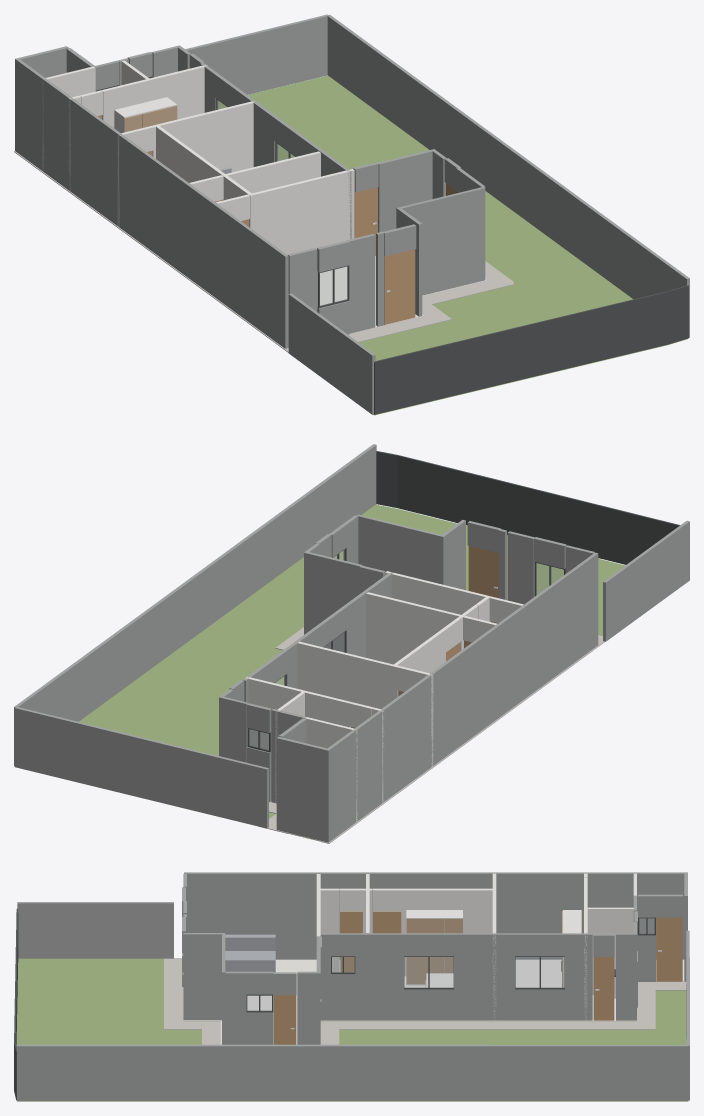
File: casa.glb
3 views of the same model, one above another, from view 1: azimuth 30°, elevation 25°; view 2: azimuth 150°, elevation 25°; view 3: azimuth 270°, elevation 25° (orthographic). The views are drawn at different scales.
Parts seen in each view (by area): view 1: fachada, parede, grama, esquadria, concreto, door7_swing__porta, piso, door5_swing__porta, vidro, armario, madeira; view 2: fachada, parede, grama, esquadria, door7_swing__porta, concreto, vidro; view 3: fachada, grama, parede, concreto, vidro, piso, tecido, madeira, esquadria, door2_swing__porta, door10_swing__porta, door4_swing__porta (+4 smaller).
Boxes of the visible parts, <box> form: fachada: <box>15,14,689,414</box>; parede: <box>42,60,354,254</box>; grama: <box>218,75,687,415</box>; esquadria: <box>95,76,688,414</box>; concreto: <box>14,151,514,352</box>; door7_swing__porta: <box>384,249,415,324</box>; piso: <box>286,256,486,349</box>; door5_swing__porta: <box>354,187,377,255</box>; vidro: <box>217,100,347,305</box>; armario: <box>114,97,177,133</box>; madeira: <box>124,105,177,132</box>; fachada: <box>14,444,689,842</box>; parede: <box>246,571,523,821</box>; grama: <box>28,504,624,841</box>; esquadria: <box>247,451,680,752</box>; door7_swing__porta: <box>468,546,498,597</box>; concreto: <box>259,627,604,843</box>; vidro: <box>249,550,563,749</box>; fachada: <box>17,872,689,1101</box>; grama: <box>16,958,687,1101</box>; parede: <box>316,873,636,1019</box>; concreto: <box>164,958,686,1044</box>; vidro: <box>247,918,654,1010</box>; piso: <box>183,959,685,1044</box>; tecido: <box>225,934,275,972</box>; madeira: <box>406,911,562,987</box>; esquadria: <box>14,909,655,1100</box>; door2_swing__porta: <box>656,917,682,981</box>; door10_swing__porta: <box>593,957,614,1020</box>; door4_swing__porta: <box>273,995,296,1044</box>.
Size of the model in its own units: 10.1 by 2.83 by 19.98.
